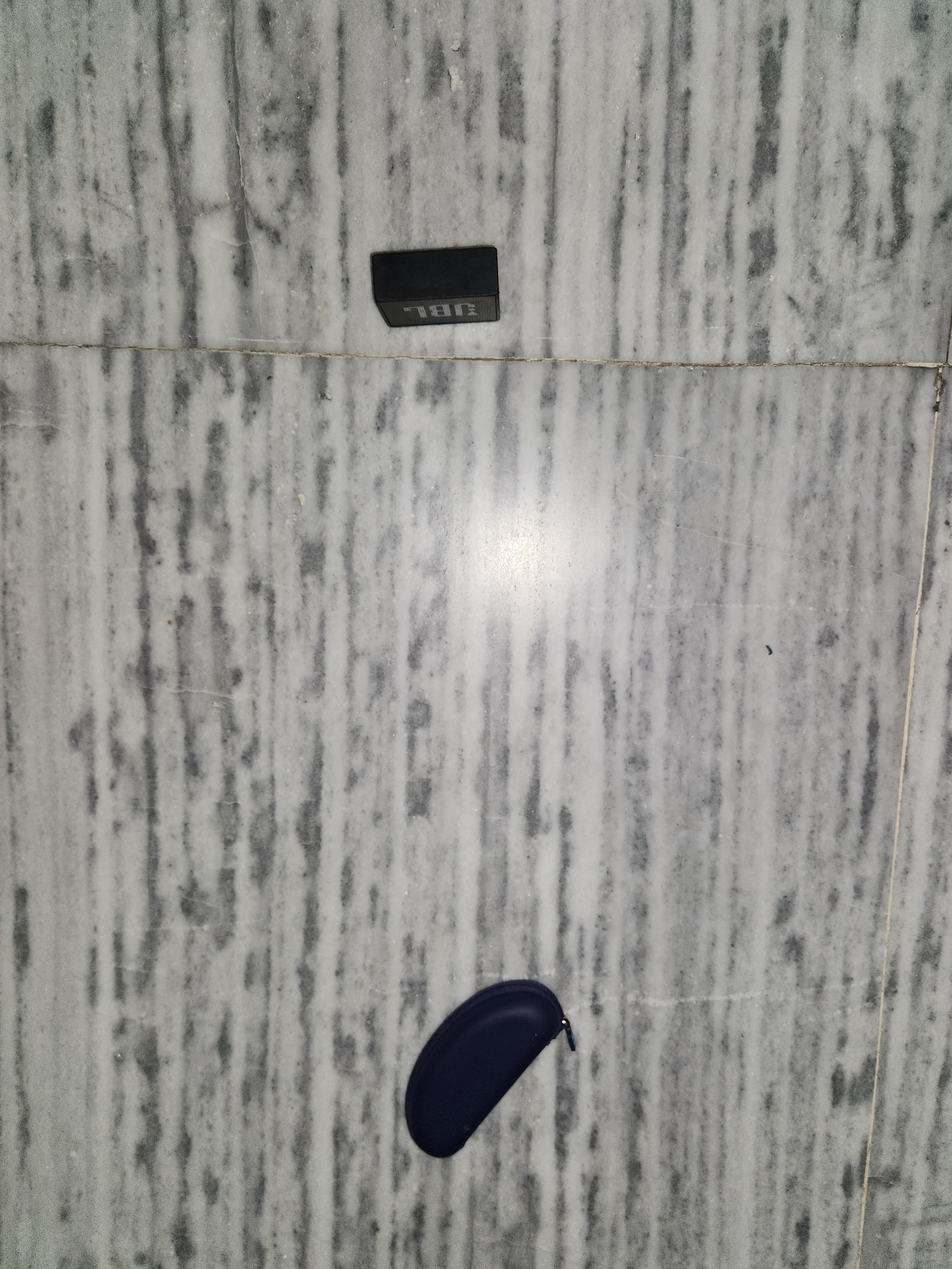case: (403, 975, 585, 1168)
speaker: (365, 239, 509, 333)
